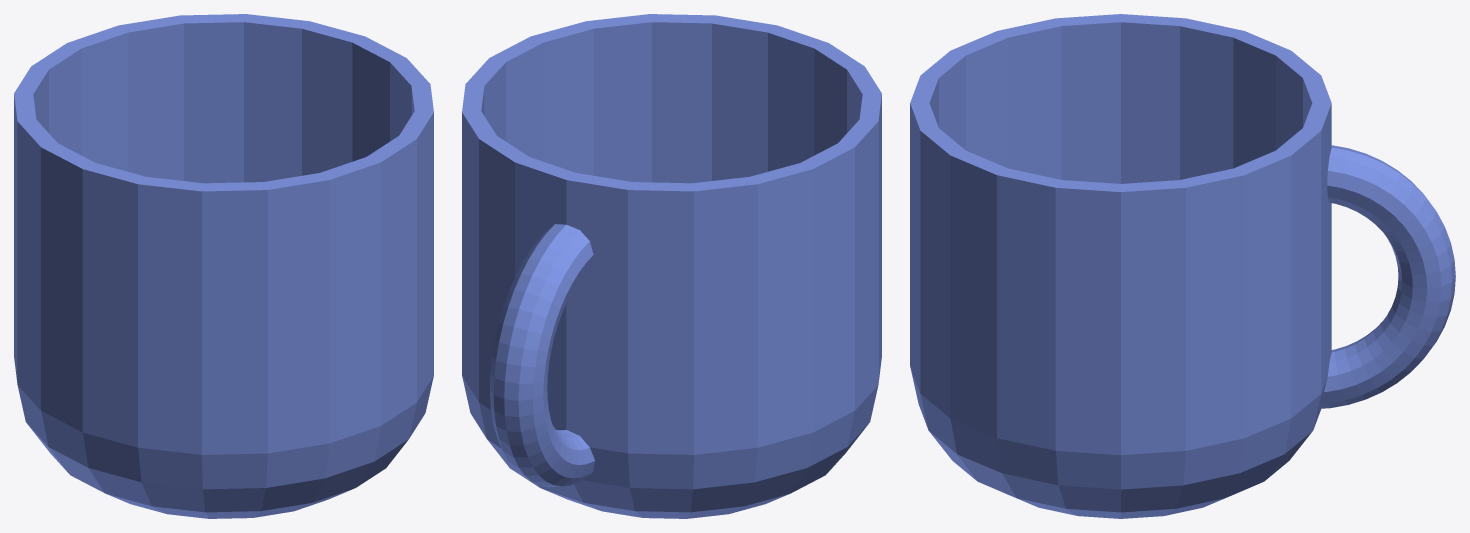
Rendered from cup.glb.
3 views of the same model, side by side, from view 1: azimuth 30°, elevation 25°; view 2: azimuth 150°, elevation 25°; view 3: azimuth 270°, elevation 25° (orthographic).
Visible parts, largest first — view 1: pCylinder1; view 2: pCylinder1, Torus; view 3: pCylinder1, Torus.
Part boxes in pixels (bbox=[...]): pCylinder1: bbox=[14, 14, 433, 518]; pCylinder1: bbox=[462, 14, 881, 518]; Torus: bbox=[490, 224, 594, 487]; pCylinder1: bbox=[910, 14, 1331, 518]; Torus: bbox=[1321, 145, 1455, 408].
Bounding box in the file's own units: 0.1101 × 0.105 × 0.1426.
